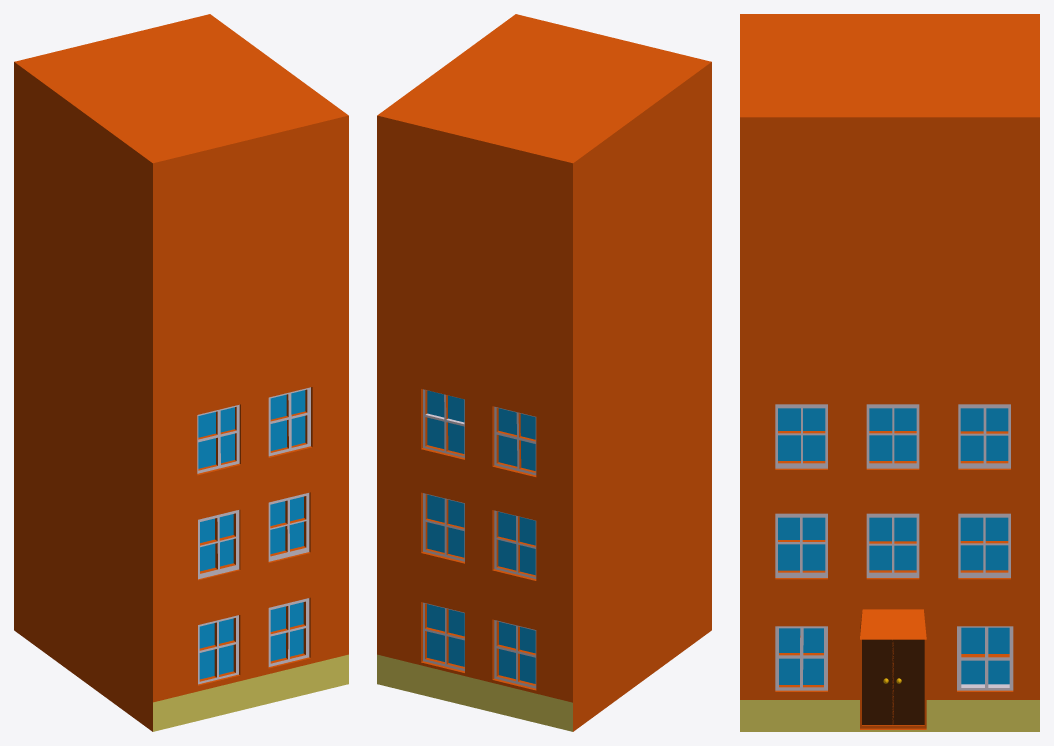
The model's file is High Rise 2 Orange.fbx.
3 renders of one model, left to right at view 1: azimuth 30°, elevation 25°; view 2: azimuth 150°, elevation 25°; view 3: azimuth 270°, elevation 25°, orthographic. The views are drawn at different scales.
Parts seen in each view (by area): view 1: Cube; view 2: Cube; view 3: Cube.
Part boxes in pixels (x1,y1,x2,y2): Cube: (14, 14, 348, 731); Cube: (377, 14, 711, 731); Cube: (740, 14, 1039, 731).
Bounding box in the file's own units: 314 × 791 × 350.
